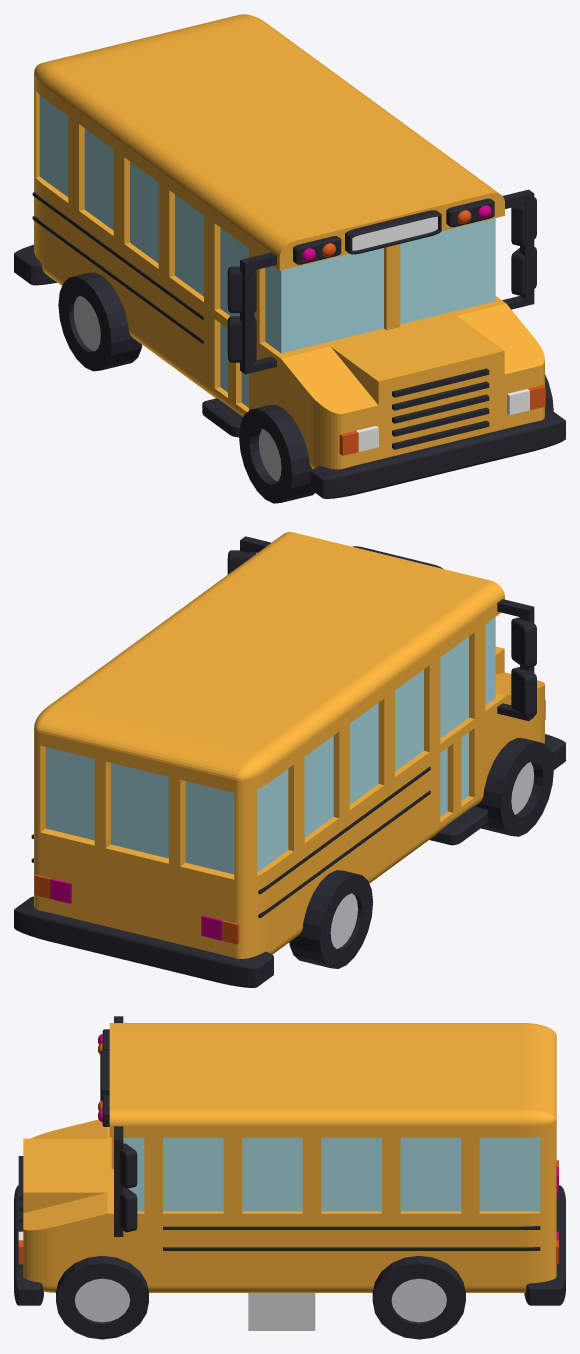
File: bussTest.glb
The picture shows the model from 3 angles, top to bottom: view 1: azimuth 30°, elevation 25°; view 2: azimuth 150°, elevation 25°; view 3: azimuth 270°, elevation 25°; orthographic projection. The views are drawn at different scales.
Parts seen in each view (by area): view 1: obj_0; view 2: obj_0; view 3: obj_0, Cube.001.
Part boxes in pixels (box(x1,y1,x2,y2)): obj_0: box(14, 14, 565, 503); obj_0: box(14, 532, 565, 987); obj_0: box(14, 1016, 565, 1339); Cube.001: box(248, 1293, 315, 1330).
Size of the model in its own units: 9.29 by 8.32 by 16.41.
